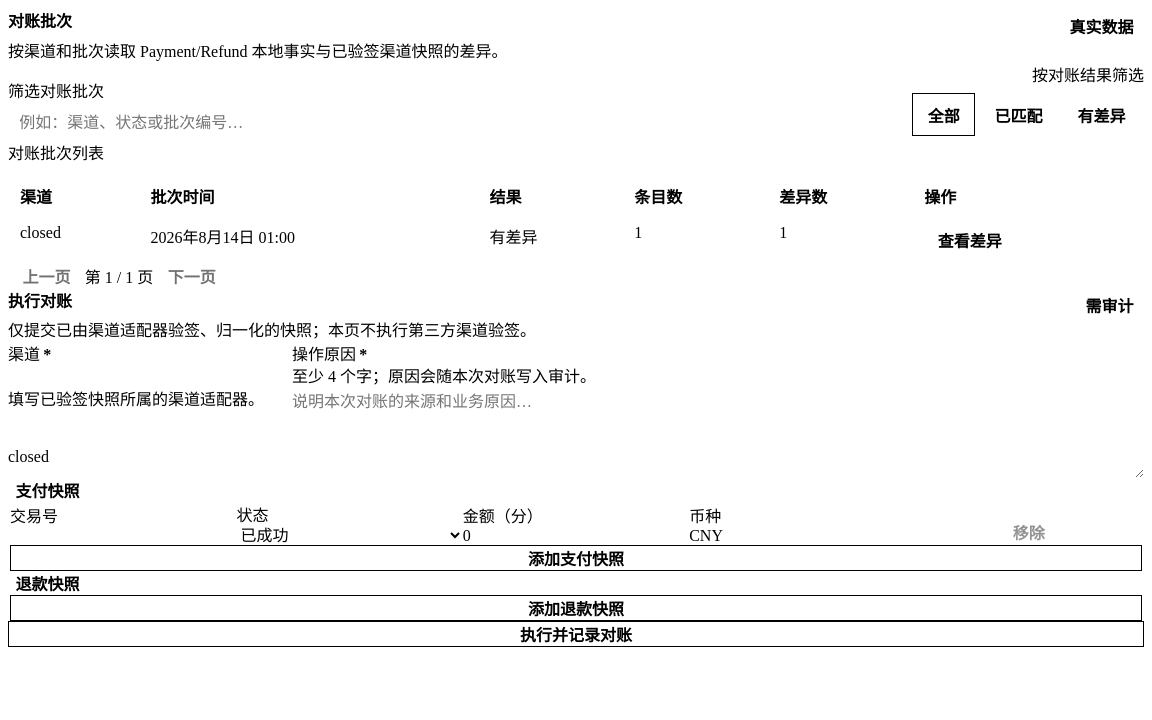
Test: AdminReconciliationSurface › shows real batches and submits structured snapshots through the audited API
Click the button with aria-label "查看差异 run-1". click: x=970, y=240
box: [926,228,1014,252]
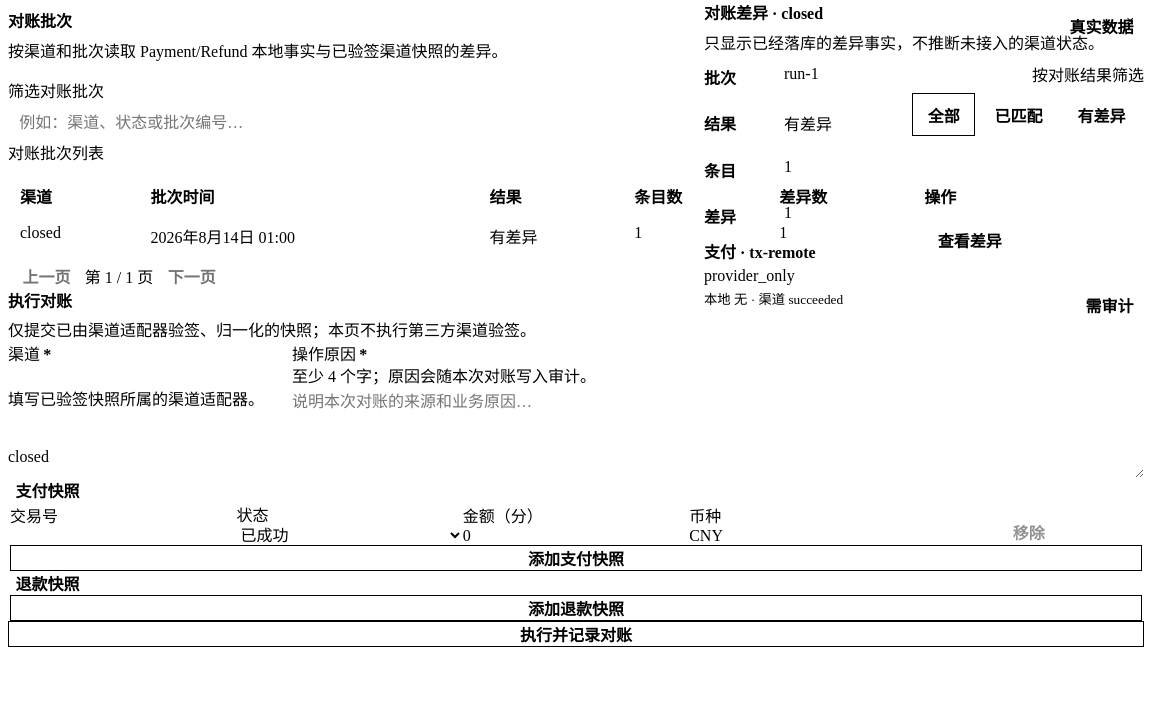
Now the text "provider_only" is shown, box [704,267,795,284]
Click the button named "关闭". click: x=1130, y=20
box: [1120,12,1140,29]
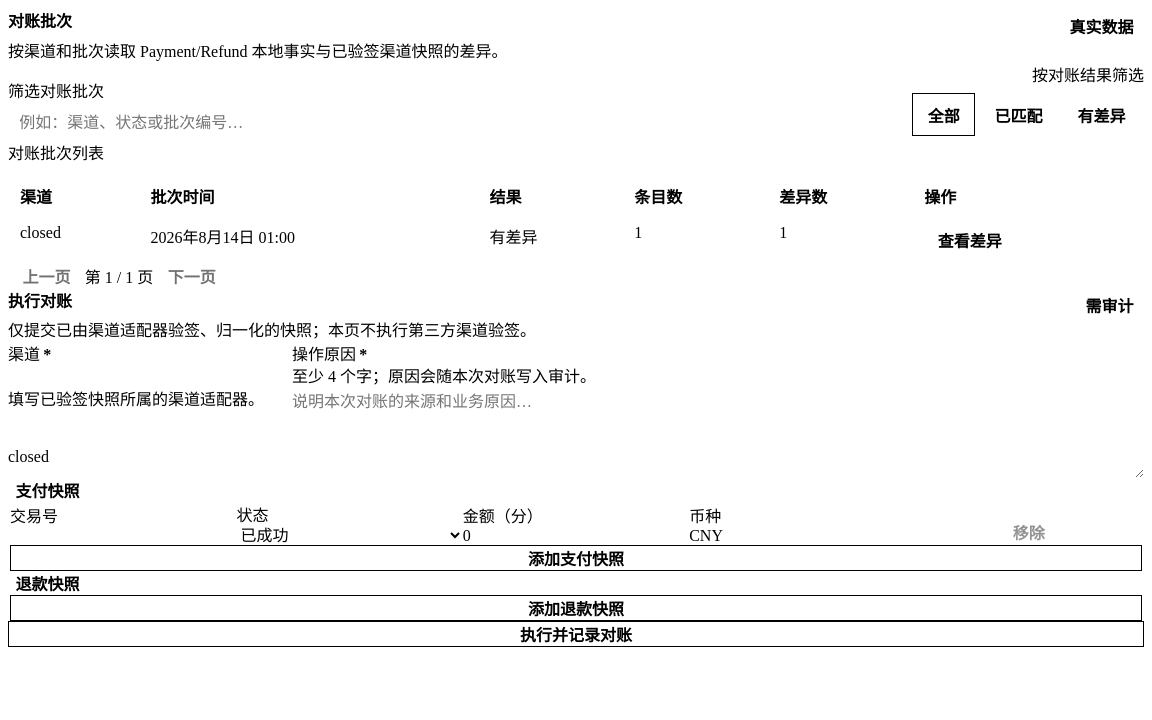
Expected: the button "执行并记录对账" is enabled, [8,621,1144,647]
Type "核对测试渠道到账事实" into the text box labelled "操作原因". click: x=718, y=434
box: [292,390,1144,478]
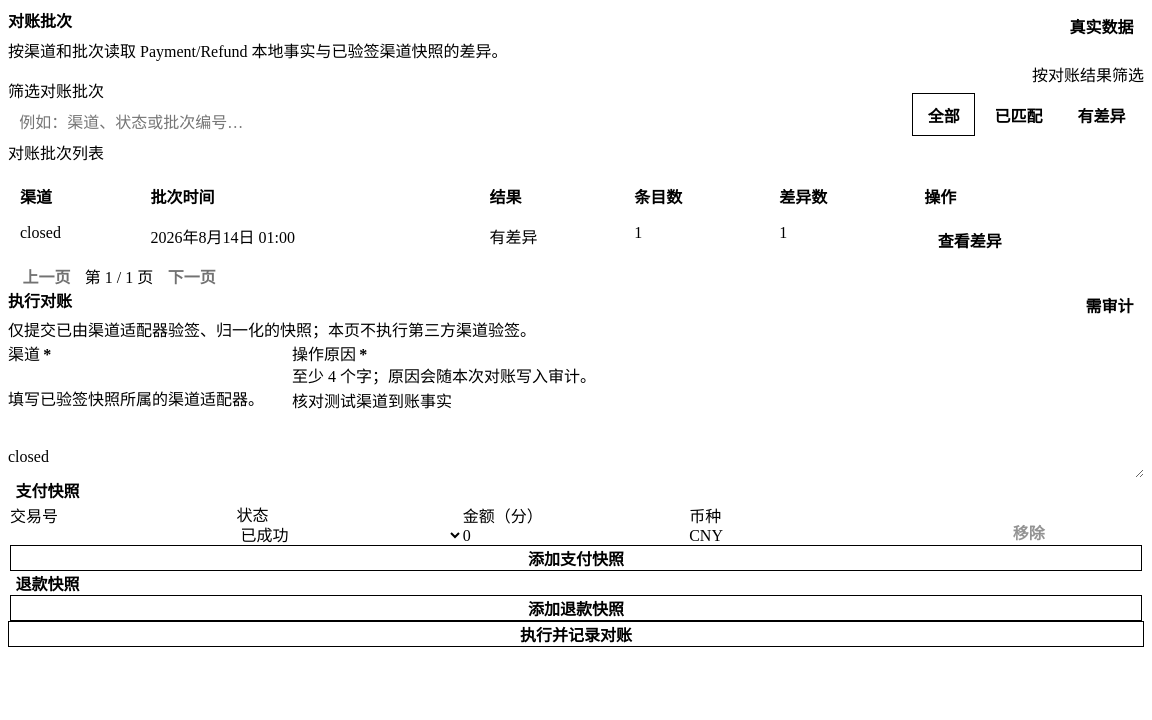
Type "tx-remote" into the field labelled "交易号". click: x=123, y=536
box: [10,527,236,545]
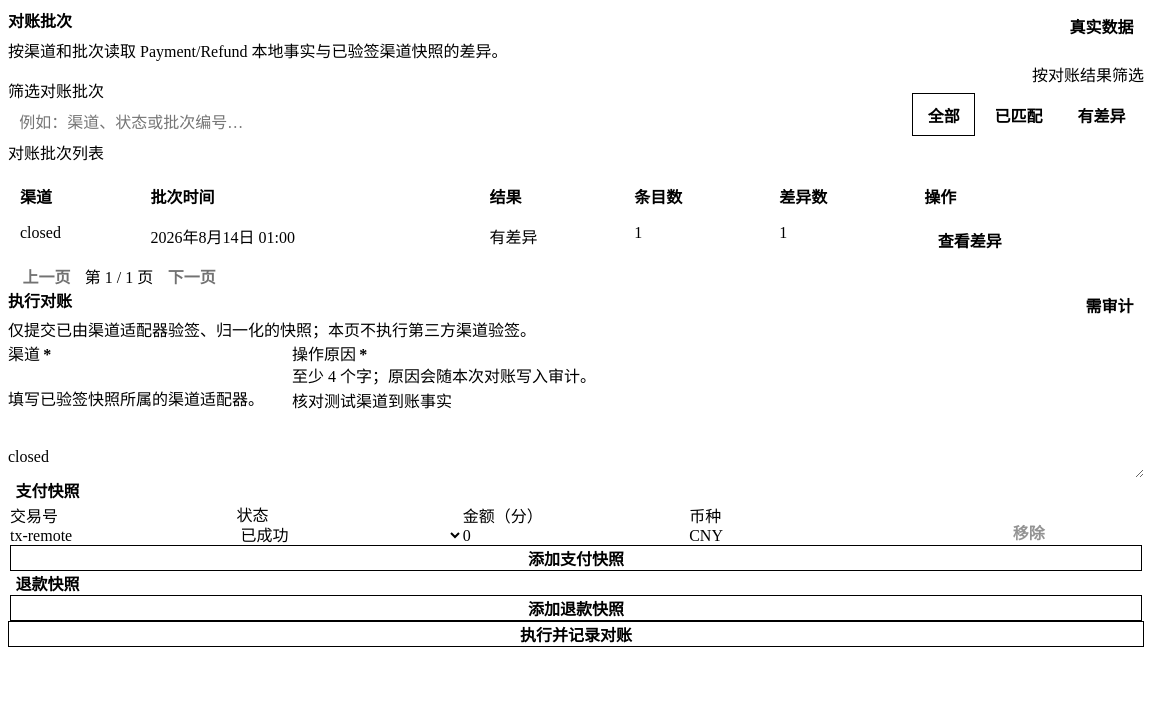
Click the button "执行并记录对账". click: x=576, y=634
box: [8,621,1144,647]
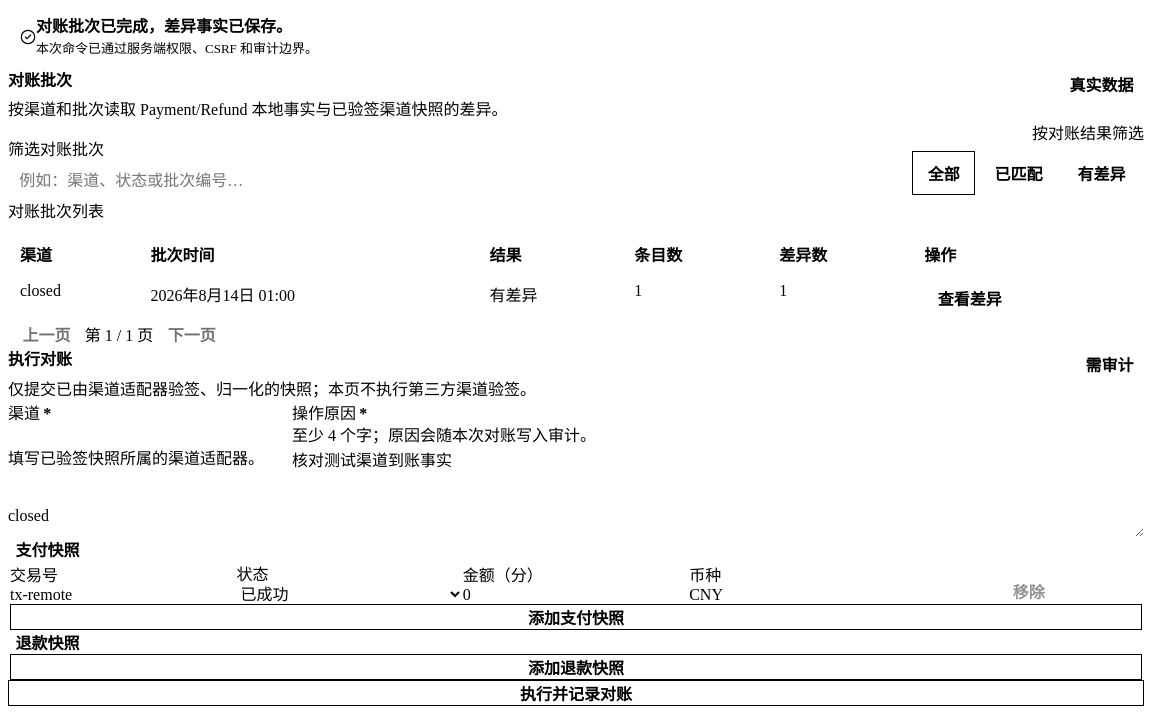
Now the heading "对账批次已完成，差异事实已保存。" is shown, box [36,18,292,35]
Now the number of messages is 1, box [20,18,318,56]
